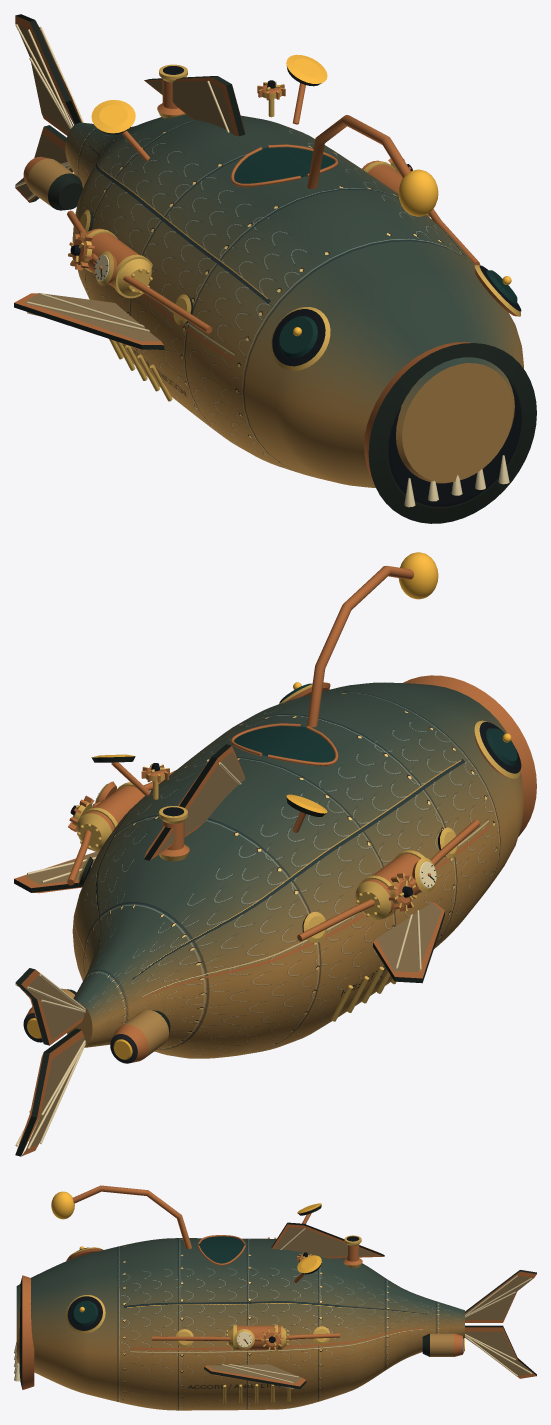
The picture shows the model from 3 angles, top to bottom: view 1: azimuth 30°, elevation 25°; view 2: azimuth 150°, elevation 25°; view 3: azimuth 270°, elevation 25°; orthographic projection. The views are drawn at different scales.
Visible parts, largest first — view 1: anglerfish_hull; view 2: anglerfish_hull; view 3: anglerfish_hull.
Part boxes in pixels (x1,y1,x2,y2): anglerfish_hull: (14,14,536,523); anglerfish_hull: (14,552,536,1156); anglerfish_hull: (14,1185,536,1410).
Size of the model in its own units: 9.08 by 7.72 by 17.
Materials: 1 (1 with a texture image).
